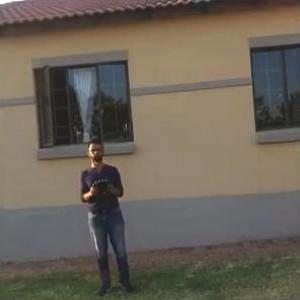follow: (80, 134, 140, 299)
